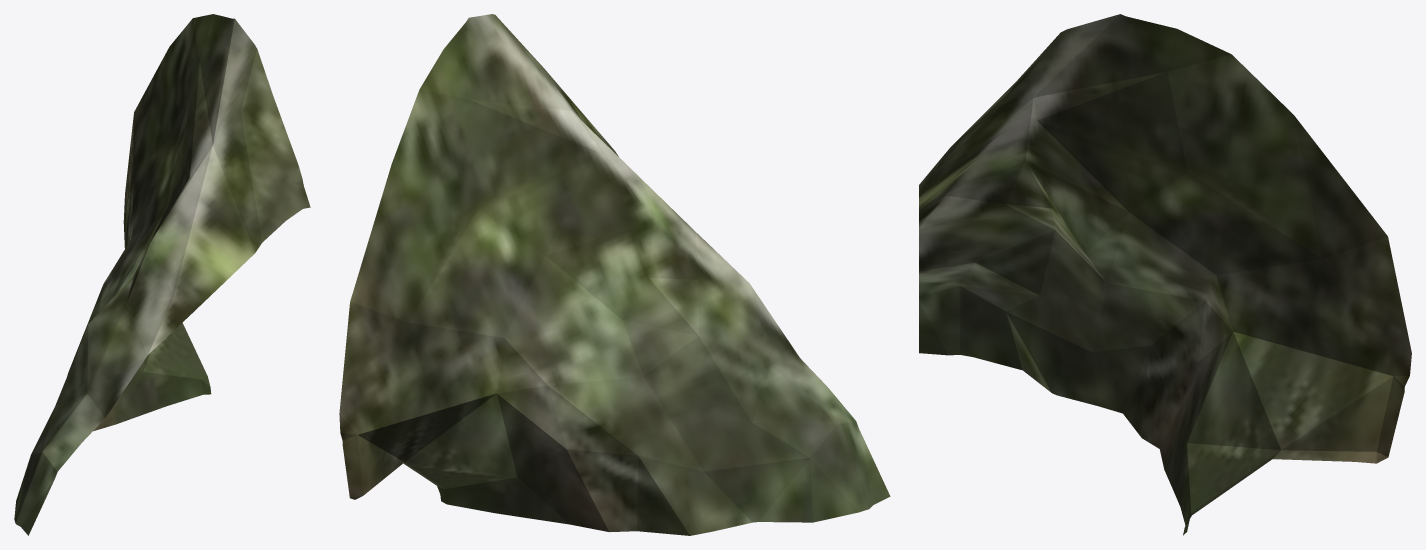
3 renders of one model, left to right at view 1: azimuth 30°, elevation 25°; view 2: azimuth 150°, elevation 25°; view 3: azimuth 270°, elevation 25°, orthographic. The views are drawn at different scales.
Size of the model in its own units: 0.7235 by 0.9633 by 0.8245.
1 material, 1 textured.
